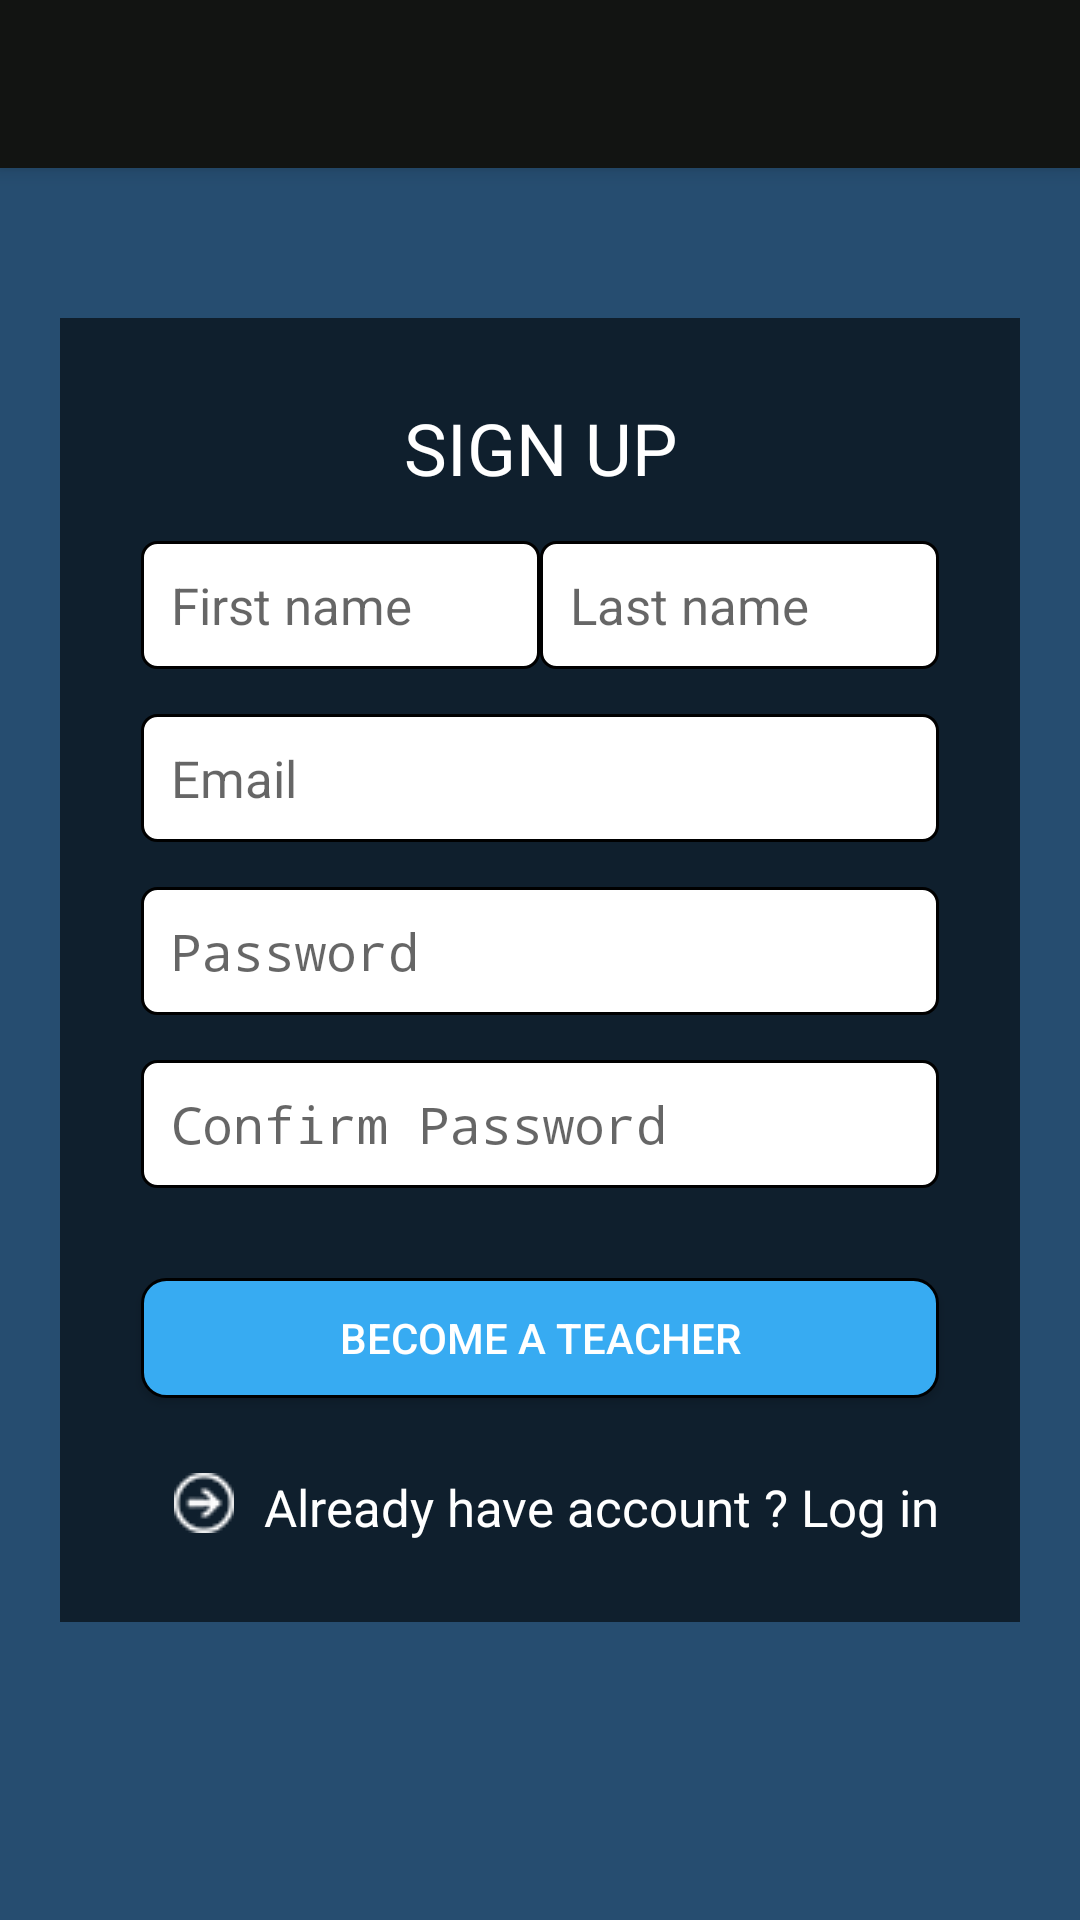

Icons on this 1080w x 1920h Android screen, each with the point to tap as (x,y):
rigth: (204,1503)
